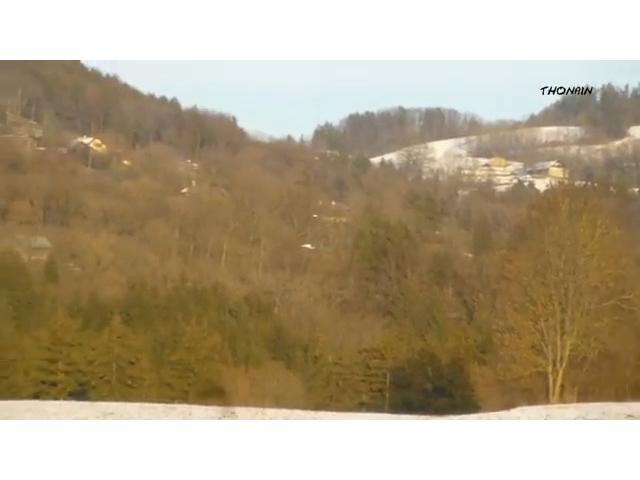Anti-Drone: (295, 238, 321, 254)
